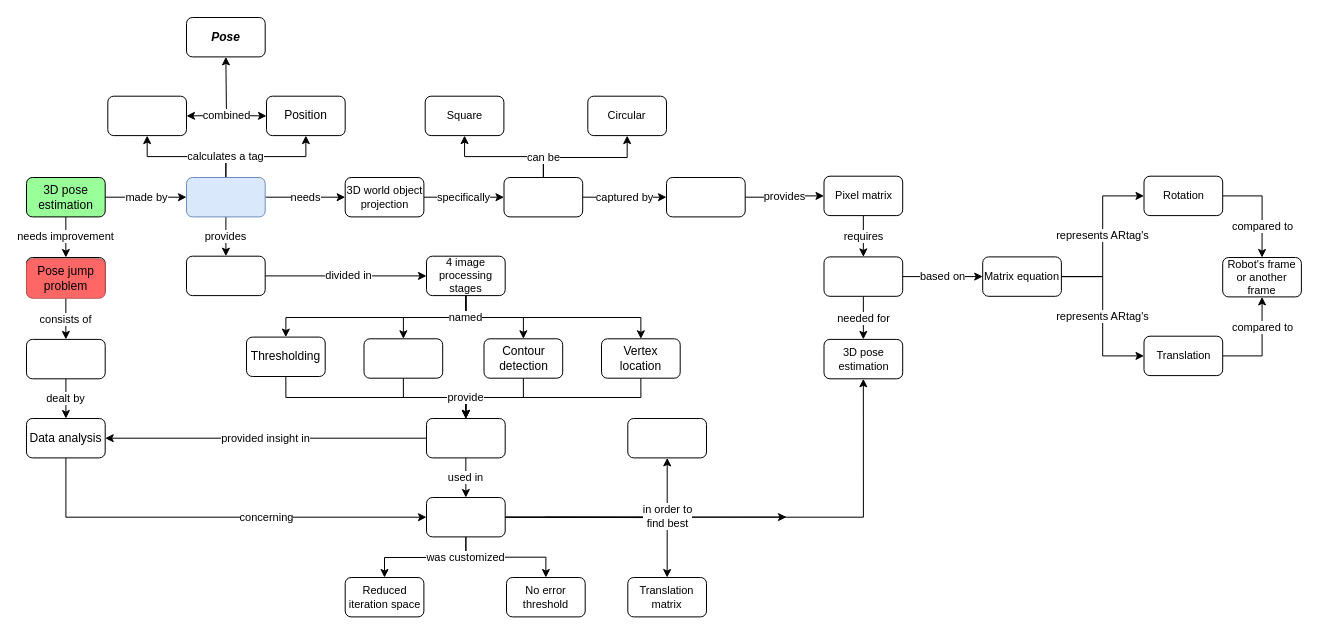
Image size: 1319x635. Some labels were removed from this diagram. The shapes that lost their labels are listed below. From the top down, each one's centre as x and y in pixels, then its label:
the point at 146,115: Orientation
the point at 225,196: ARToolKitPlus
the point at 543,196: ARTag
the point at 705,196: Camera sensor
the point at 225,275: Marker detection
the point at 863,276: Space transformation
the point at 65,358: Tag detected position flickering
the point at 403,358: Labeling
the point at 465,438: Data
the point at 666,438: Rotation matrix
the point at 465,516: Newton-Raphson's optimization
